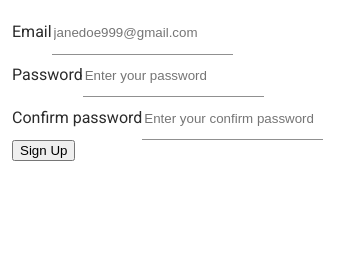
Test: Auth Form Renders Correct Errors › Submiting form with empty fields renders correct errors
The image size is (340, 280).
Step 1. Click the button "Sign Up" → (44, 150), box left=12, top=140, right=75, bottom=161
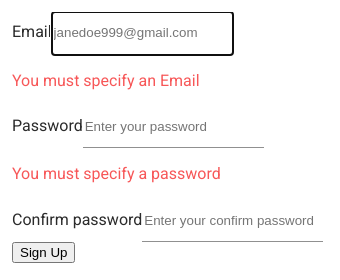
Result: the text "You must specify an Email" is shown at left=12, top=71, right=200, bottom=90
Result: the text "You must specify a password" is shown at left=12, top=164, right=221, bottom=183
